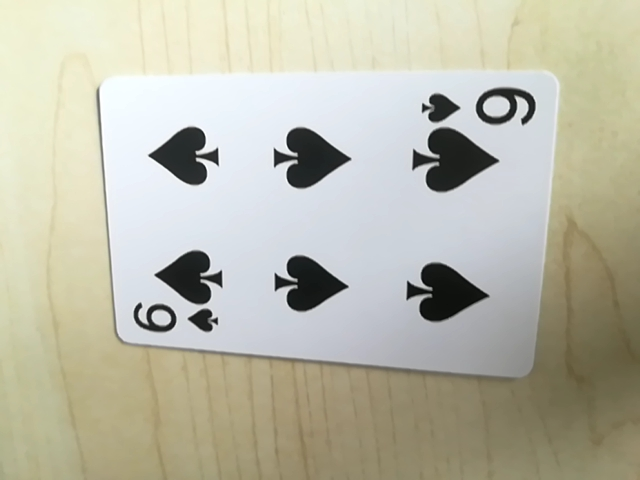ht 6: (420, 82, 540, 128), (126, 296, 225, 342)
